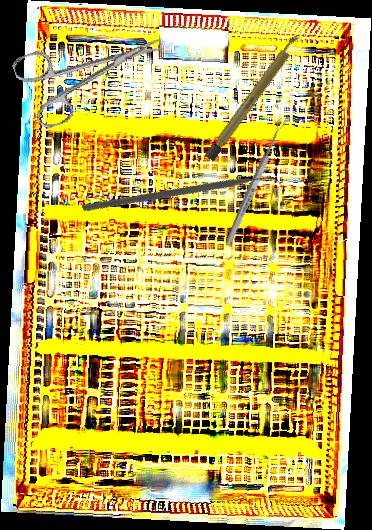Chopper: (81, 98, 285, 297)
Iris Scissors: (10, 10, 176, 133)
Scalpel Handle: (204, 31, 304, 163)
Surgical Spoon: (223, 117, 288, 246)
